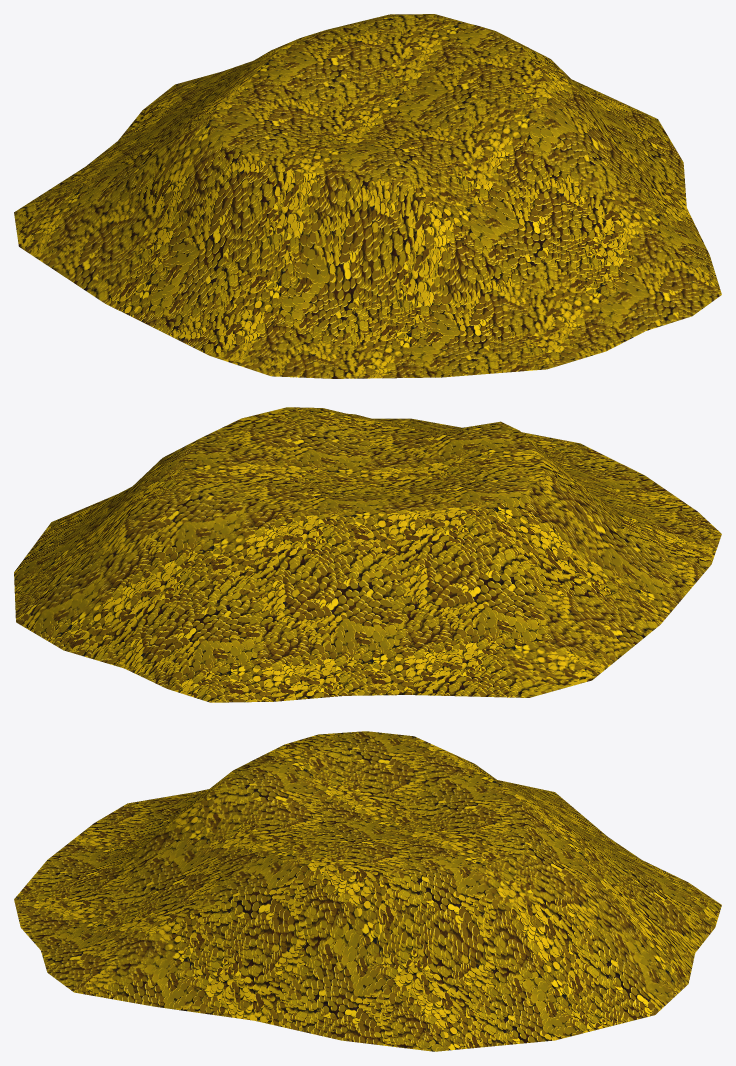
The model's file is INST_SM_GOLDPILE_LARGEC.fbx.
The picture shows the model from 3 angles, top to bottom: view 1: azimuth 30°, elevation 25°; view 2: azimuth 150°, elevation 25°; view 3: azimuth 270°, elevation 25°; orthographic projection. The views are drawn at different scales.
Visible parts, largest first — view 1: INST_SM_GOLDPILE_LARGEC; view 2: INST_SM_GOLDPILE_LARGEC; view 3: INST_SM_GOLDPILE_LARGEC.
Part boxes in pixels (x1,y1,x2,y2): INST_SM_GOLDPILE_LARGEC: (14,14,721,378); INST_SM_GOLDPILE_LARGEC: (14,407,721,702); INST_SM_GOLDPILE_LARGEC: (14,731,721,1051).
Size of the model in its own units: 121250 by 22500 by 132500.
Materials: 1 (1 with a texture image).
